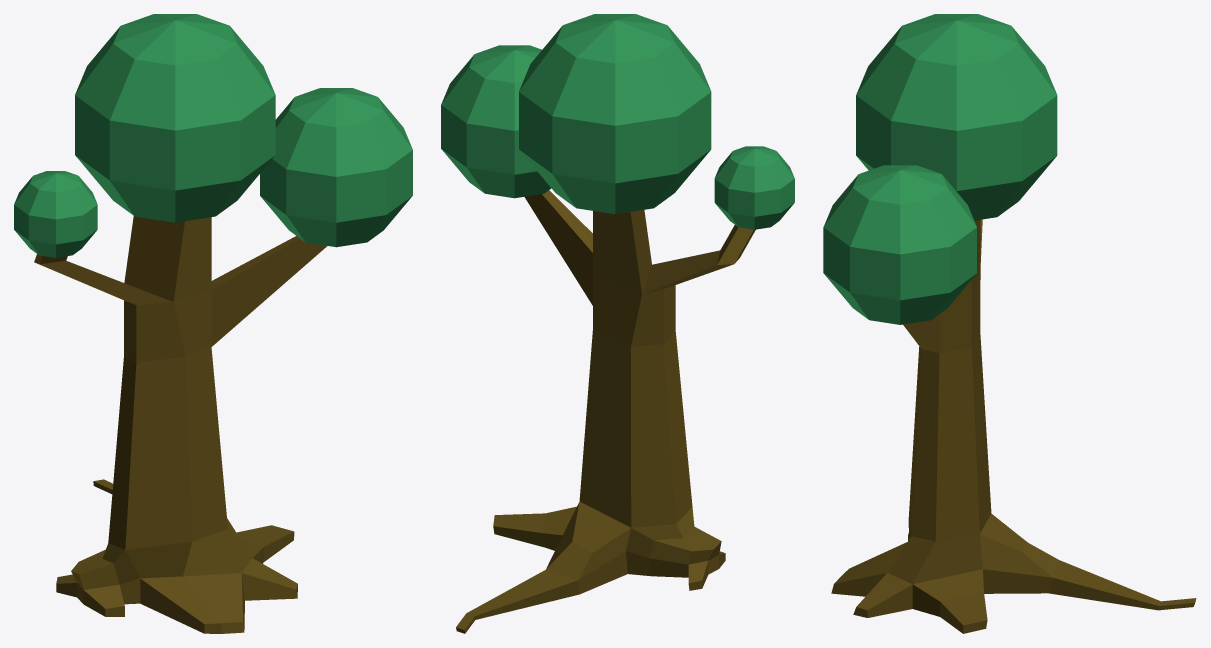
File: TreeTemp.fbx
3 renders of one model, left to right at view 1: azimuth 30°, elevation 25°; view 2: azimuth 150°, elevation 25°; view 3: azimuth 270°, elevation 25°, orthographic. The views are drawn at different scales.
Visible parts, largest first — view 1: BigTree; view 2: BigTree; view 3: BigTree.
Part boxes in pixels (x1,y1,x2,y2): BigTree: (14,14,412,633); BigTree: (441,14,794,633); BigTree: (823,14,1196,633).
Size of the model in its own units: 33.31 by 49.23 by 29.2.
